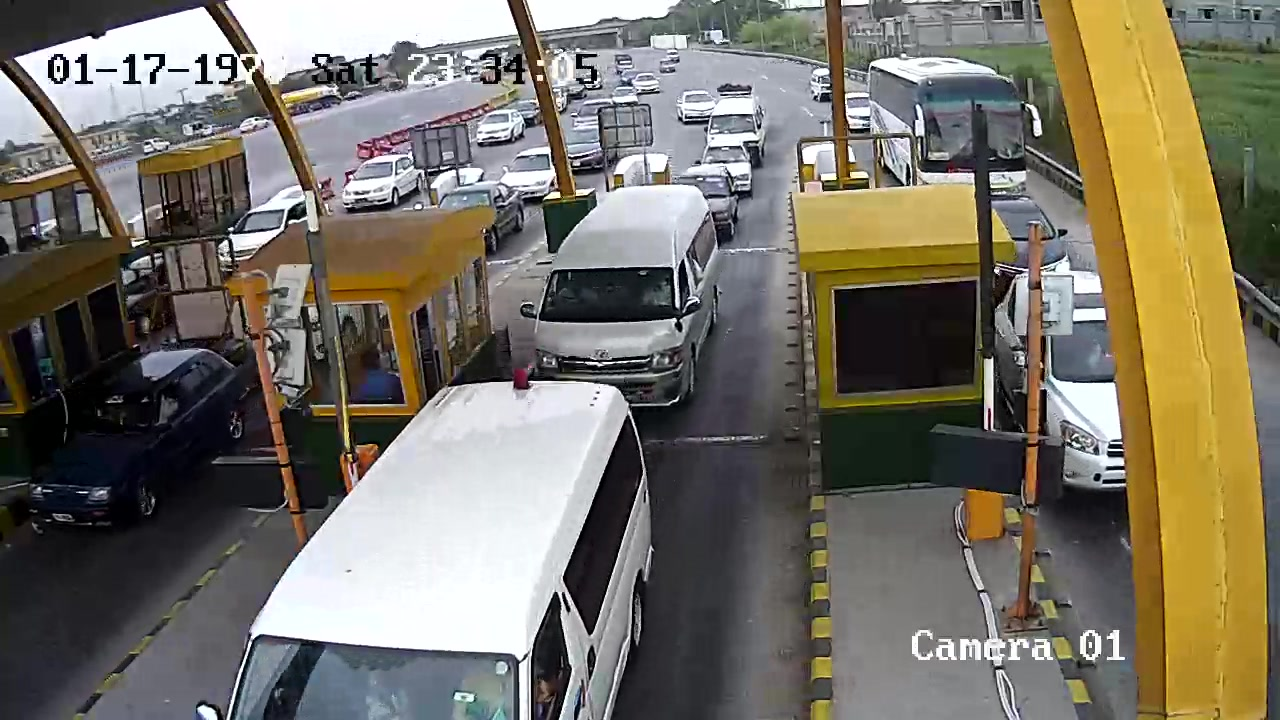F2: (526, 181, 723, 411)
